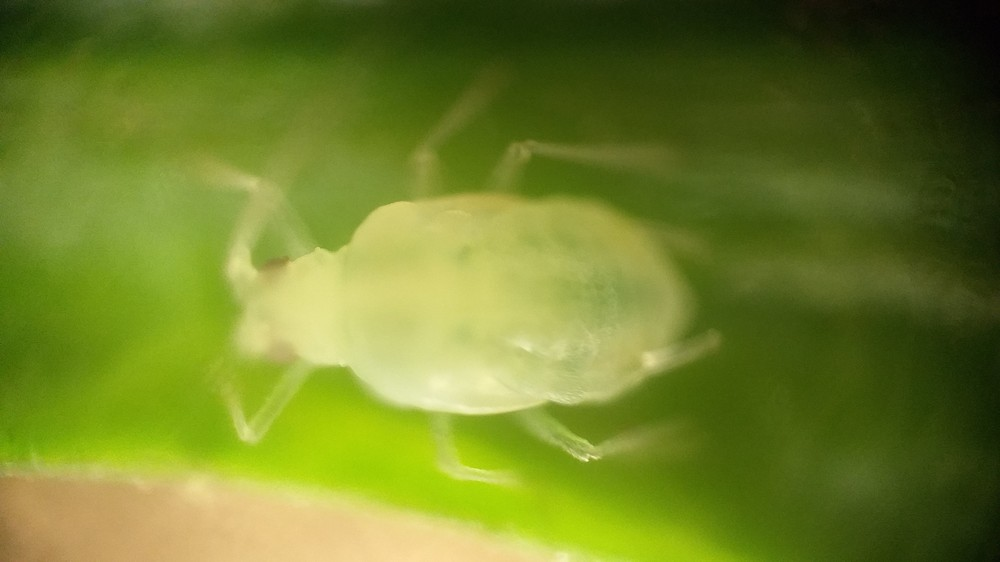Pulgon: (181, 79, 762, 513)
